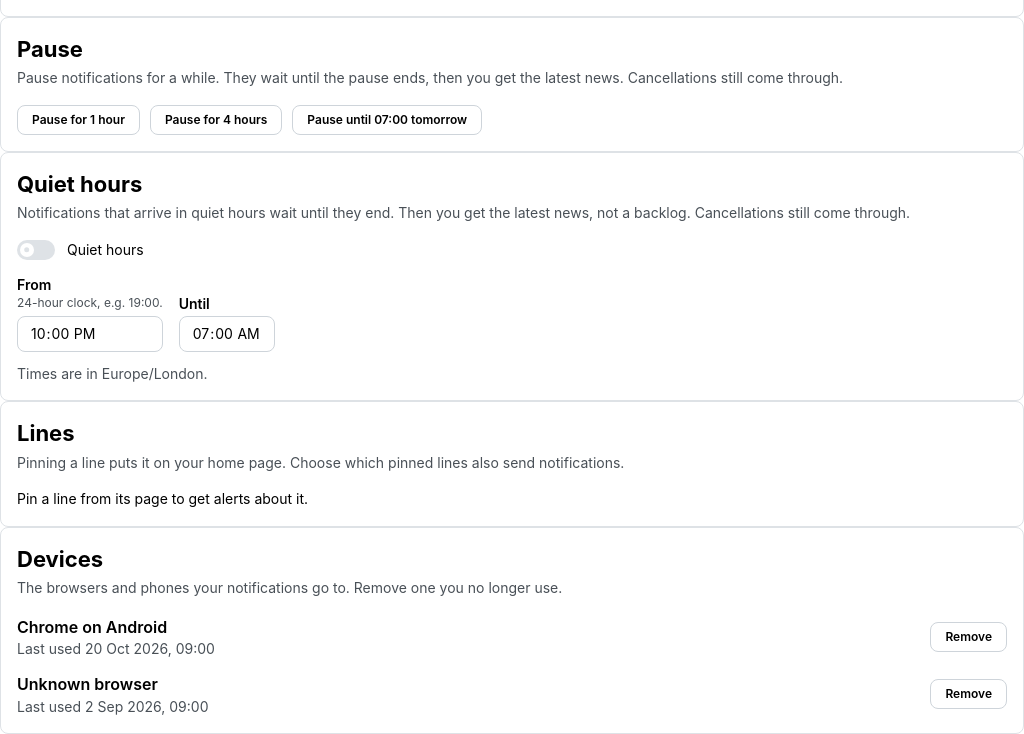
Scenario: NotificationSettings › lists the devices and removes one
(page scrolled)
Expected: the text "Chrome on Android" is shown, [17, 615, 167, 640]
Expected: the text "Unknown browser" is shown, [17, 672, 158, 697]
Click the button with aria-label "Remove unknown browser" at x=969, y=694, box [930, 679, 1007, 709]
(page scrolled)
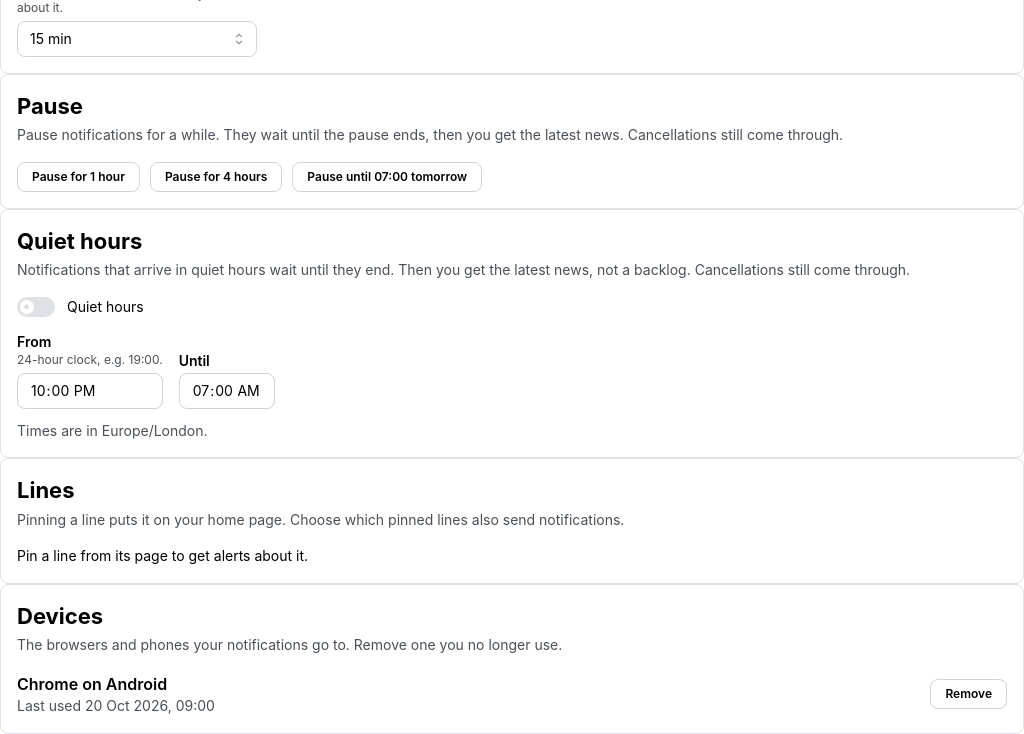
Expected: the text "Chrome on Android" is shown, [17, 672, 167, 696]
Result: the text "Unknown browser" is gone
